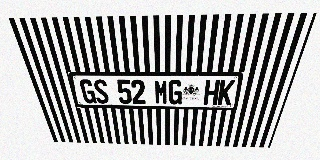2: (131, 80, 146, 104)
5: (117, 79, 132, 104)
G: (79, 79, 97, 103), (168, 80, 183, 105)
H: (203, 80, 220, 105)
K: (217, 80, 235, 105)
M: (154, 80, 168, 104)
S: (92, 79, 110, 104)
